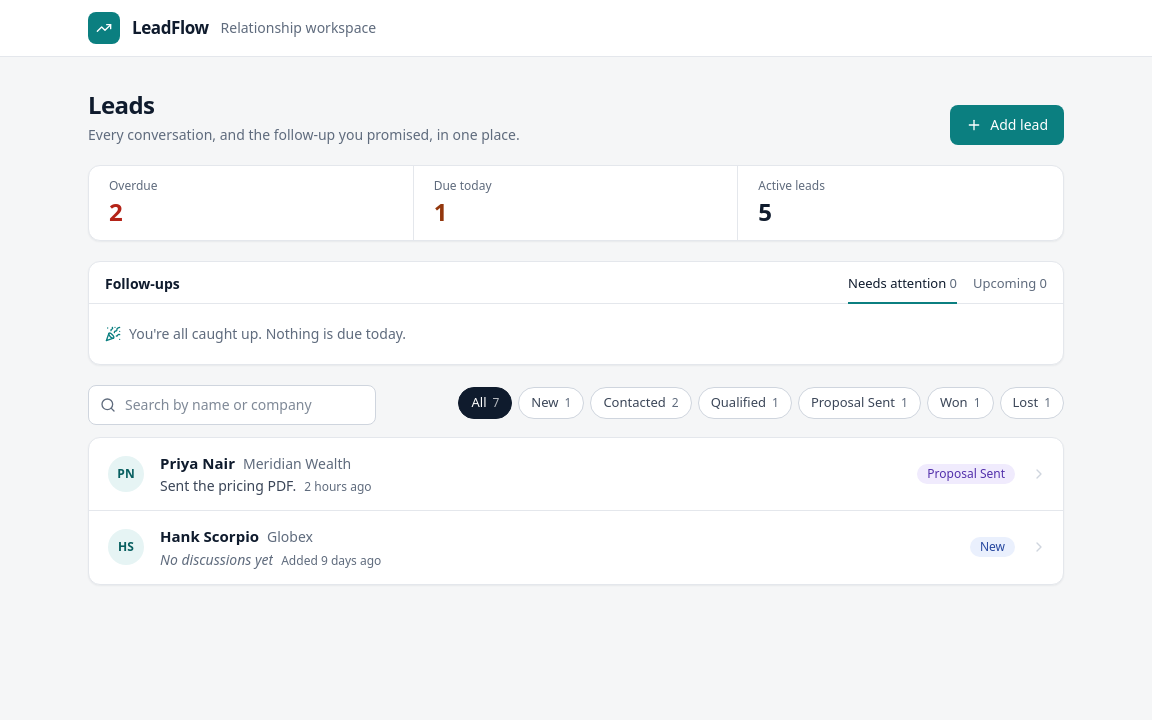
lead timeline dialog › shows the empty timeline state
Click the button with aria-label "Open Hank Scorpio".
click(126, 547)  # box 89,511 -> 1063,584
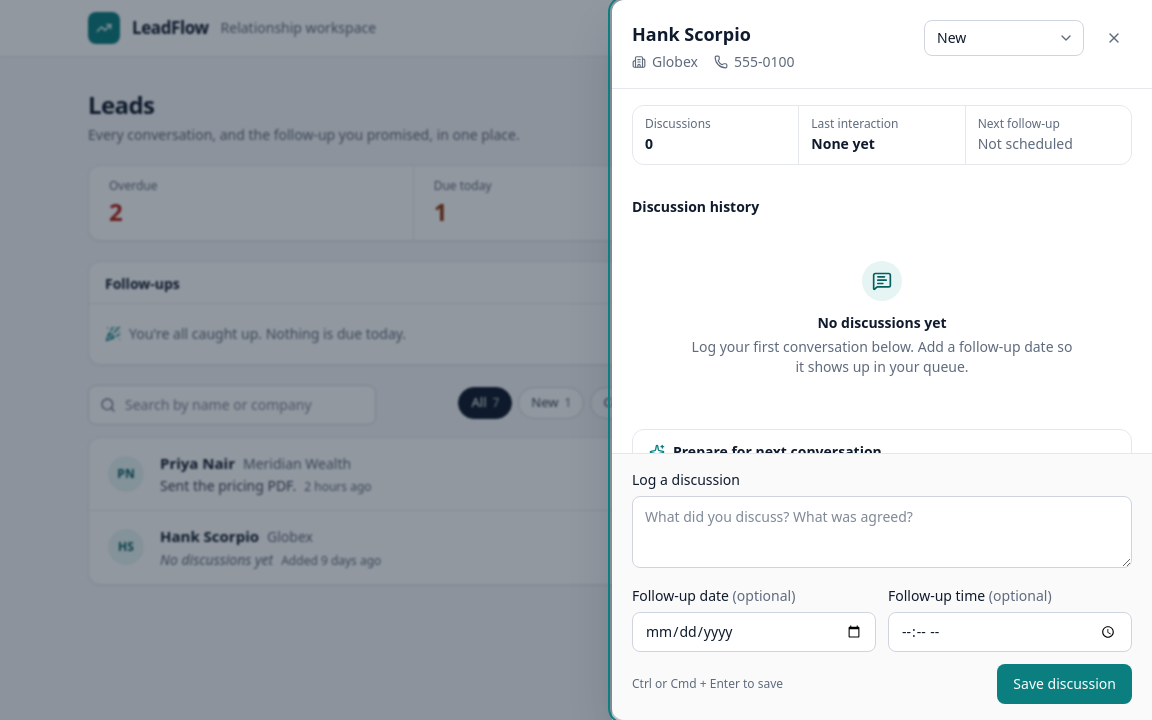
expect the heading "No discussions yet" is shown: met, box 817,313 -> 946,333
